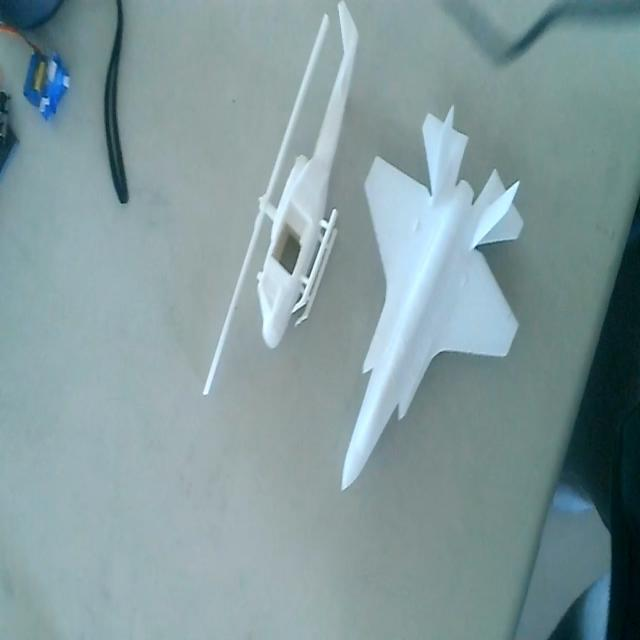Helicopter: (202, 2, 360, 404)
Jet: (343, 110, 523, 494)
